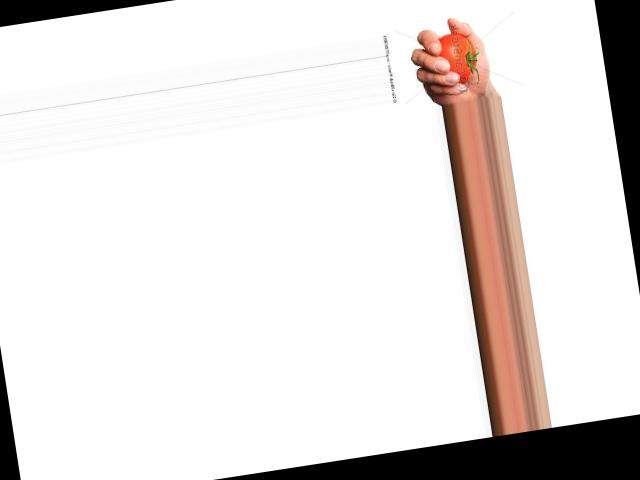tomato: (437, 30, 479, 86)
